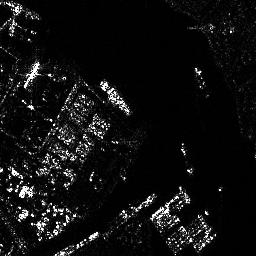ship: (99, 78, 132, 115), (193, 66, 209, 97)
